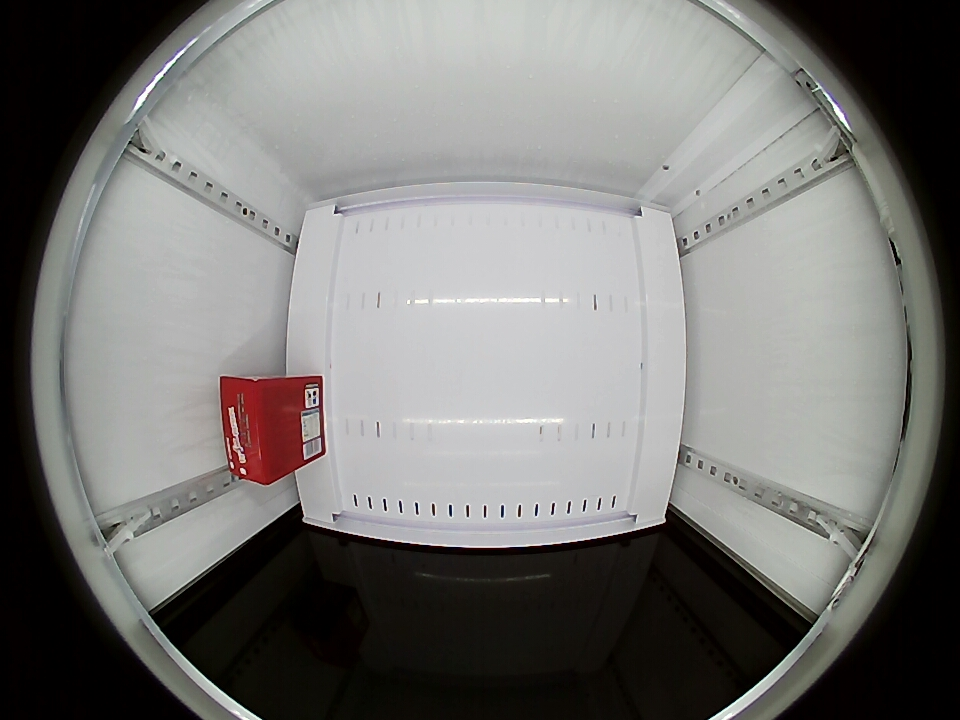haoliyou: (220, 376, 300, 486)
